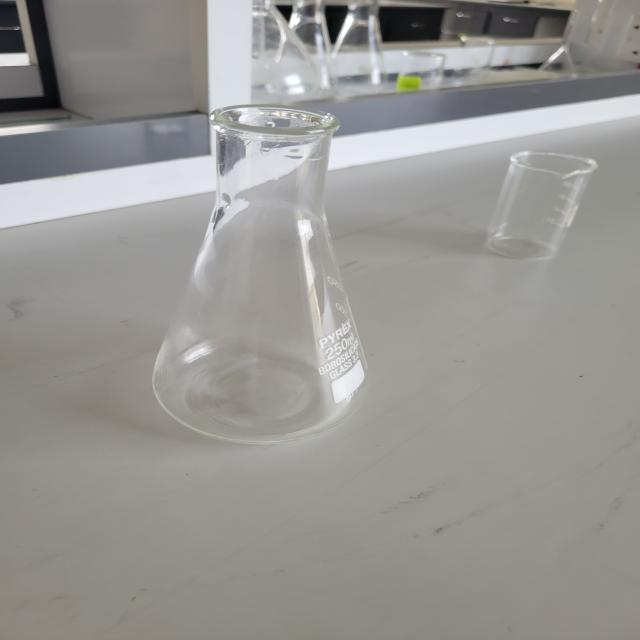Beaker: (464, 129, 605, 283)
Conical_Flask: (130, 81, 409, 464)
